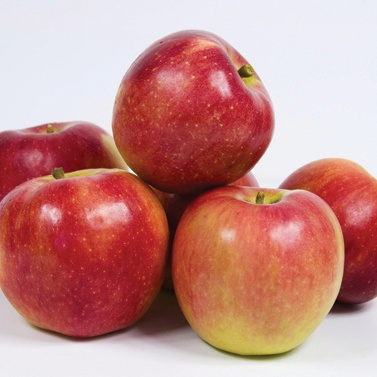apple: (176, 183, 344, 359), (1, 171, 171, 343), (116, 28, 278, 187), (272, 155, 377, 309), (1, 123, 129, 219)
